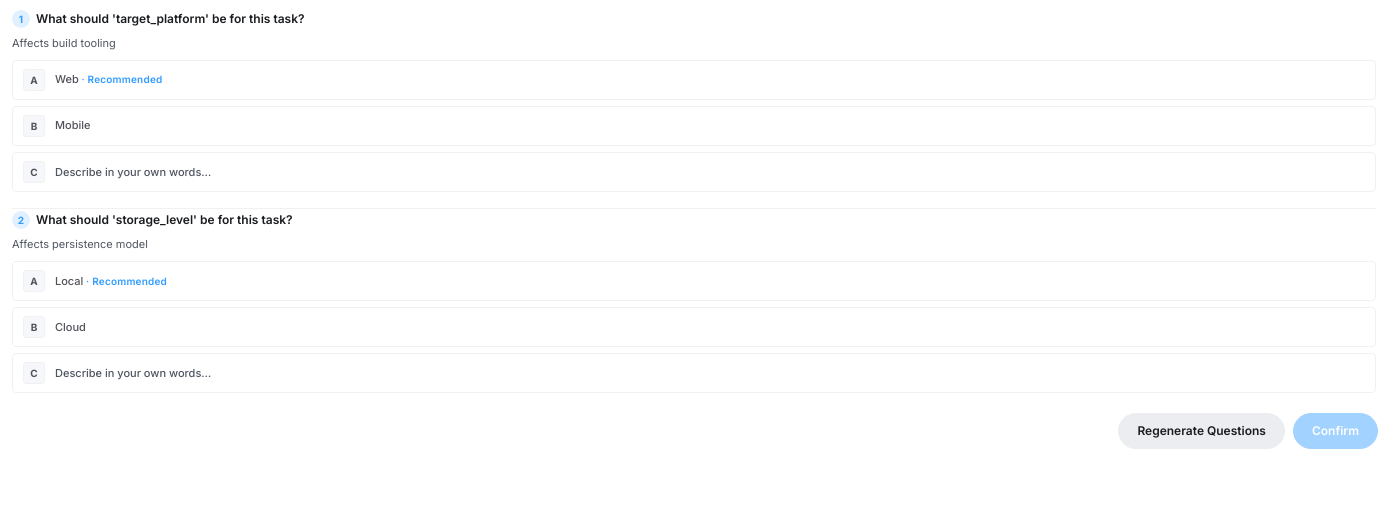
it: ClarifyPanel › save and debounce behavior › shows save error banner when updateClarify fails
Type "web" into the text box named "Custom answer for: target_platform" at (710, 172), box [55,161,1365,183]
Wait 900 ms
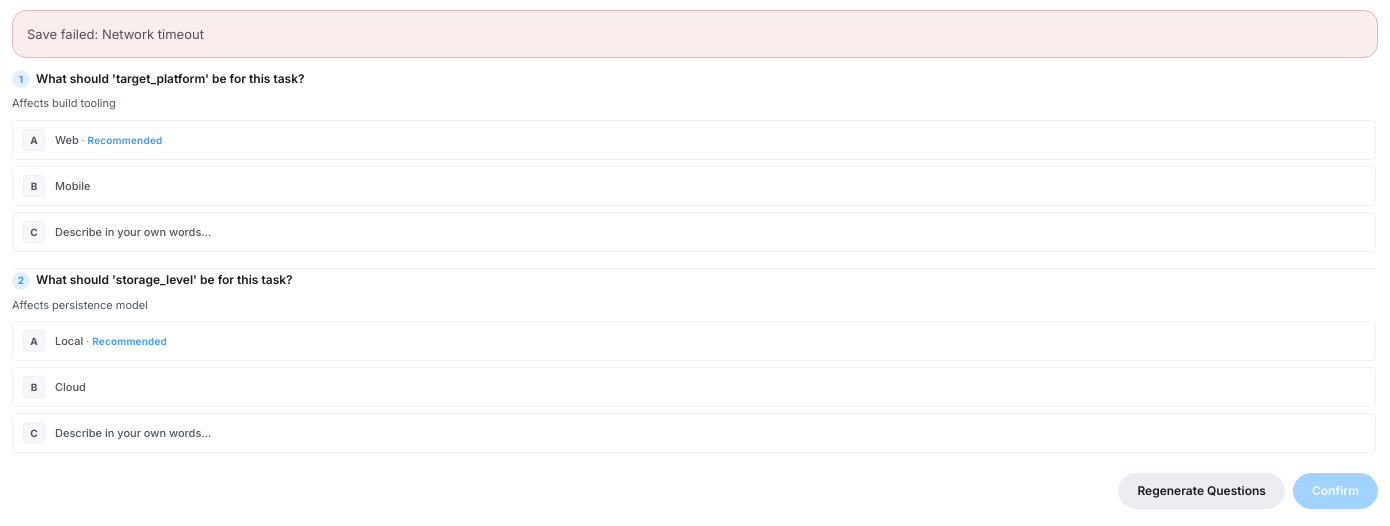
Now the element with test id "save-error-clarify" shows "Network timeout", box [102,26,204,42]
